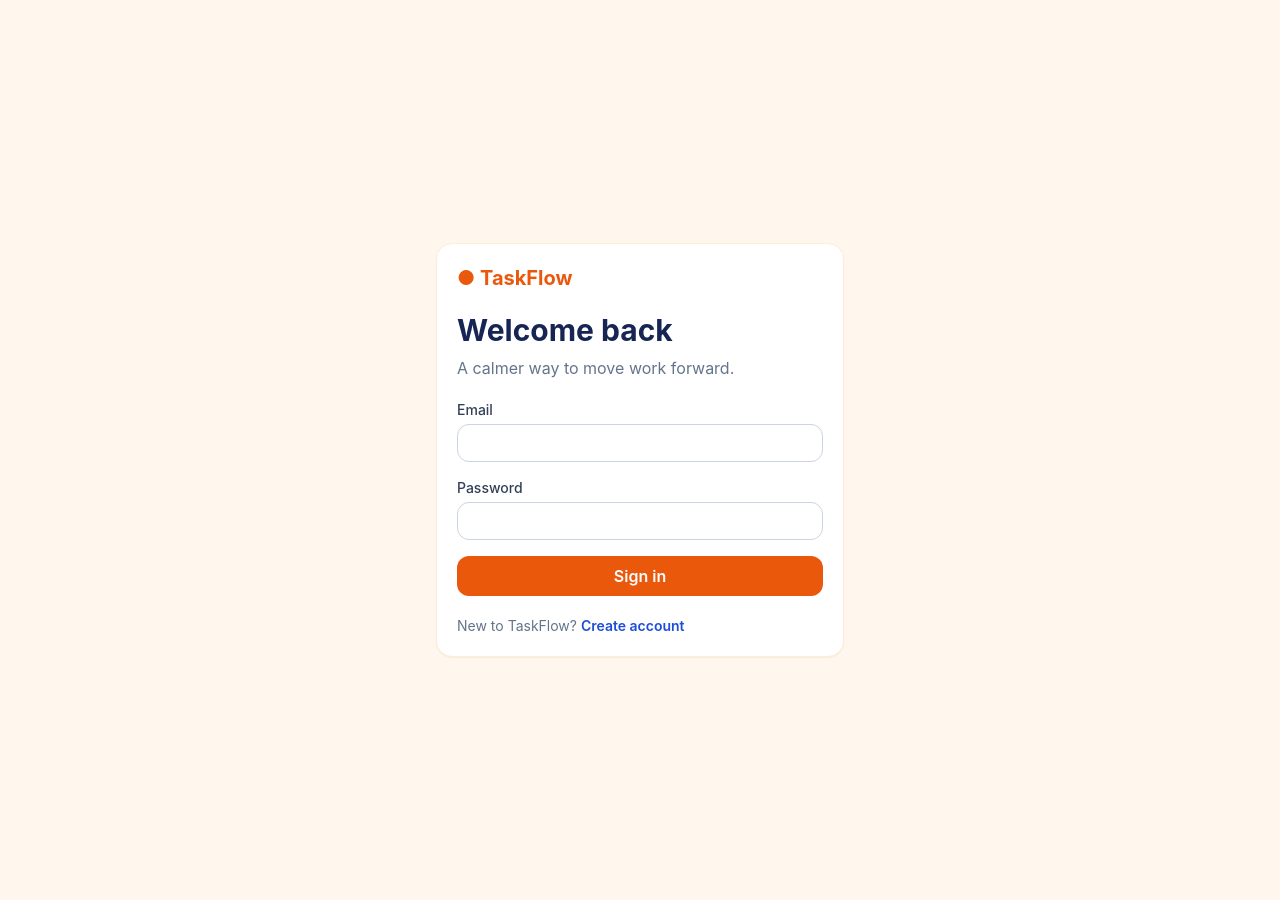
task components › navigates to protected projects after login
Type "alice@example.com" into the field labelled "Email".
click(640, 443); type("alice@example.com")  # box x1=457 y1=424 x2=823 y2=462
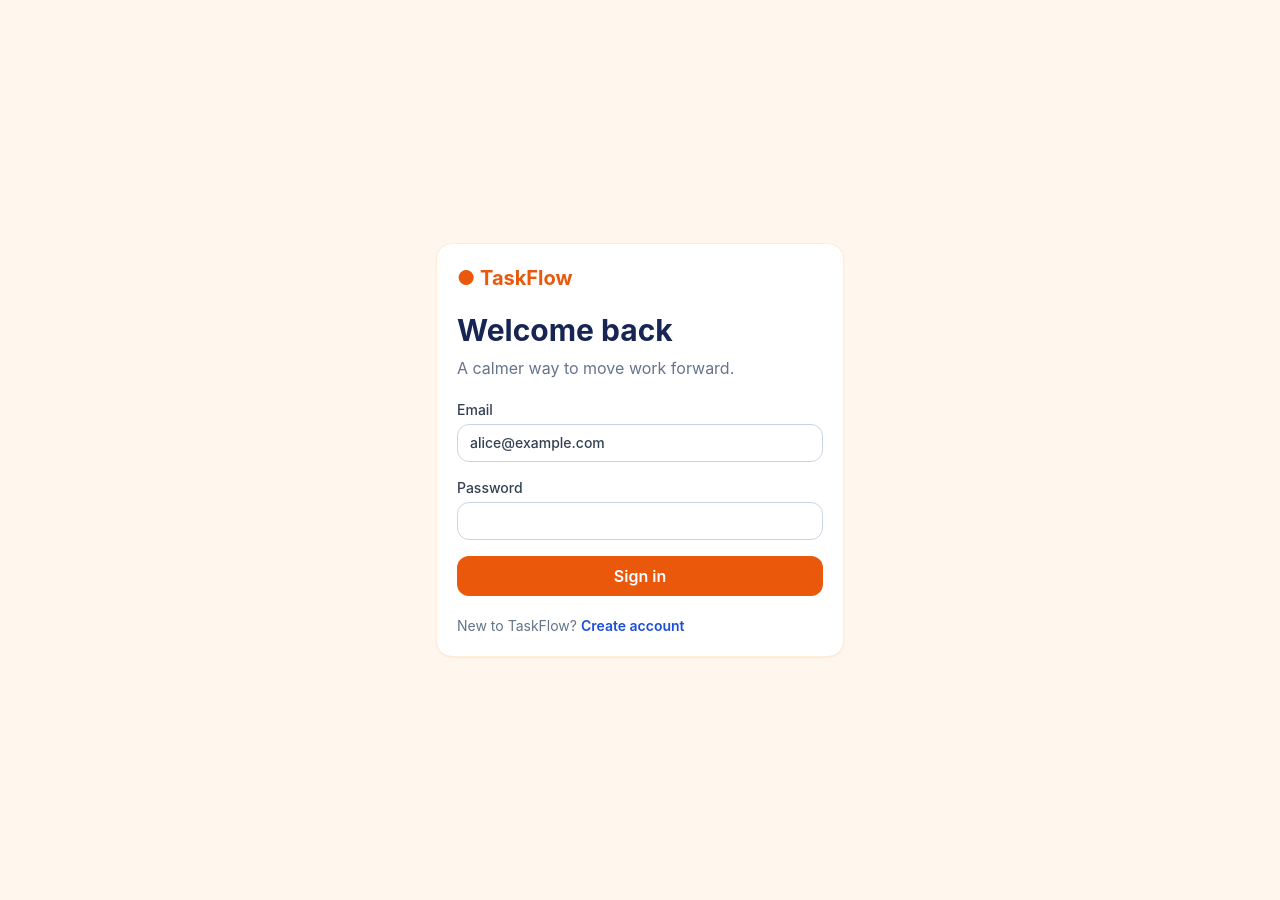
Type "password123" into the password field labelled "Password".
click(640, 521); type("password123")  # box x1=457 y1=502 x2=823 y2=540
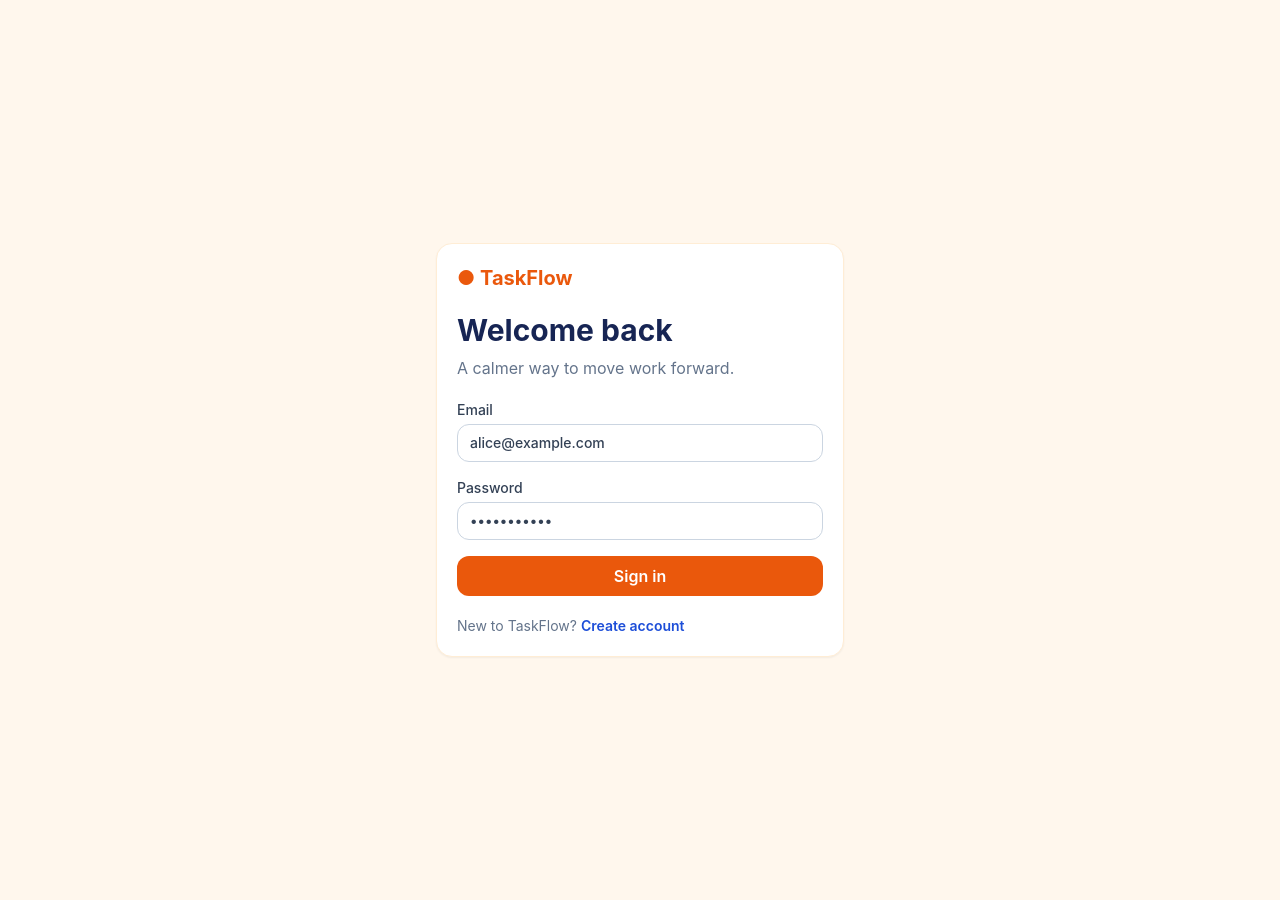
Click the button "Sign in".
click(640, 576)  # box x1=457 y1=556 x2=823 y2=596
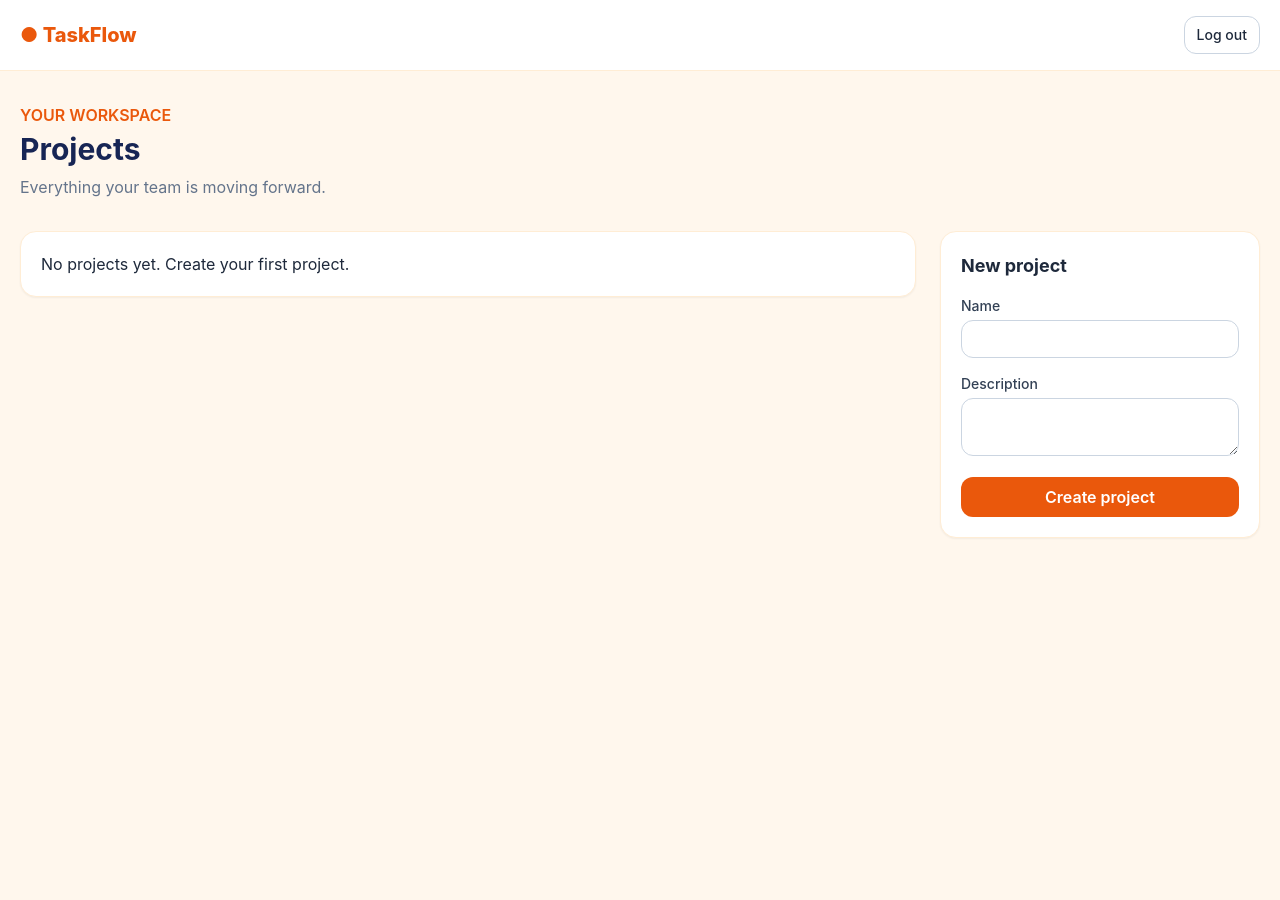
Now the heading "Projects" is shown, box x1=20 y1=131 x2=140 y2=167
